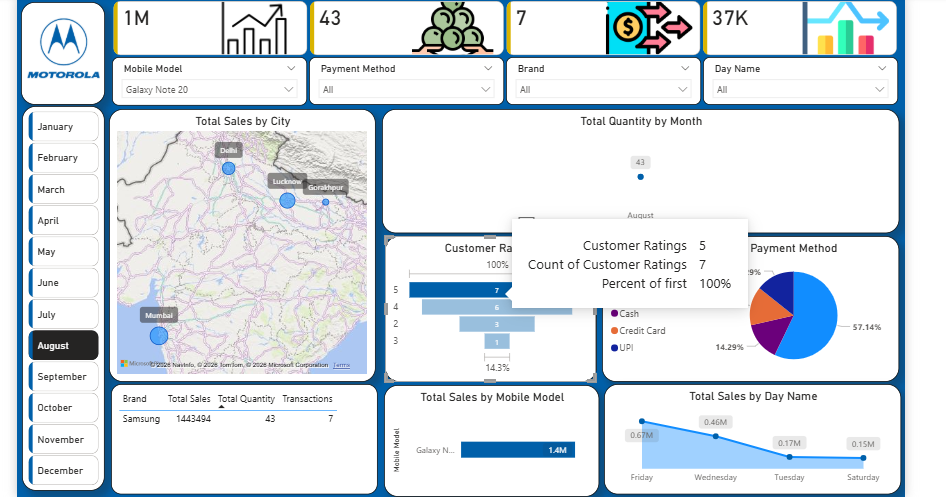

The page's visual inventory and layout, read from the dashboard file:
{"tool":"powerbi","page":{"name":"Page 1","canvas":[1280,720],"ordinal":0},"visuals":[{"type":"shape","box":[5.5,6.9,120.8,148.2],"z":0},{"type":"image","box":[9.6,16.5,113.9,116.6],"z":1000},{"type":"shape","box":[6.9,156.4,119.4,554.4],"z":2000},{"type":"advancedSlicerVisual","fields":{"Values":["Sales_Data.Date.Variation.Date Hierarchy.Month"]},"box":[11,160.5,111.1,548.9],"z":3000},{"type":"cardVisual","fields":{"Data":["Sales_Data.Total Sales","Sales_Data.Total Quantity","Sales_Data.Transactions","Sales_Data.Average"]},"box":[134,5.6,1140.1,83.7],"z":4000},{"type":"map","fields":{"Category":["Sales_Data.City"],"Size":["Sales_Data.Total Sales"]},"box":[132.9,160.8,384.1,393.1],"z":5000},{"type":"lineChart","fields":{"Y":["Sales_Data.Total Quantity"],"Category":["Sales_Data.Date.Variation.Date Hierarchy.Month","Sales_Data.Date.Variation.Date Hierarchy.Day"]},"box":[525.9,160.8,744.8,178.7],"z":6000},{"type":"clusteredBarChart","fields":{"Category":["Sales_Data.Mobile Model"],"Y":["Sales_Data.Total Sales"]},"box":[528.3,558.5,310.1,160.5],"z":7000},{"type":"pieChart","fields":{"Category":["Sales_Data.Payment Method"],"Y":["Sales_Data.Transactions"]},"box":[842.5,344.4,428.1,209.9],"z":8000},{"type":"funnel","title":"Customer Ratings","fields":{"Category":["Sales_Data.Customer Ratings"],"Y":["CountNonNull(Sales_Data.Customer Ratings)"]},"box":[529.7,344.4,304.6,209.9],"z":9000},{"type":"areaChart","fields":{"Category":["Sales_Data.Day Name"],"Y":["Sales_Data.Total Sales"]},"box":[845.3,557.1,428.1,159.2],"z":10000},{"type":"tableEx","fields":{"Values":["Sales_Data.Brand","Sales_Data.Total Sales","Sales_Data.Total Quantity","Sales_Data.Transactions"]},"box":[135.8,557.1,384.2,159.2],"z":11000},{"type":"slicer","fields":{"Values":["Sales_Data.Mobile Model"]},"box":[136.2,87.1,281.4,70.3],"z":12000},{"type":"slicer","fields":{"Values":["Sales_Data.Payment Method"]},"box":[421,87.1,281.4,69.2],"z":13000},{"type":"slicer","fields":{"Values":["Sales_Data.Brand"]},"box":[703.5,87.1,281.4,69.2],"z":14000},{"type":"slicer","fields":{"Values":["Sales_Data.Day Name"]},"box":[988.2,87.1,281.4,69.2],"z":15000}]}

Visuals, with their boxes in screenshot pixels (x1, y1, x2, y2):
shape: box(16, 0, 102, 100)
image: box(19, 2, 100, 84)
shape: box(17, 101, 102, 492)
advancedSlicerVisual - Sales_Data.Date.Variation.Date Hierarchy.Month: box(20, 104, 99, 491)
cardVisual - Sales_Data.Total Sales x Sales_Data.Total Quantity: box(107, 0, 913, 53)
map - Sales_Data.City x Sales_Data.Total Sales: box(106, 104, 378, 382)
lineChart - Sales_Data.Total Quantity x Sales_Data.Date.Variation.Date Hierarchy.Month: box(384, 104, 910, 230)
clusteredBarChart - Sales_Data.Mobile Model x Sales_Data.Total Sales: box(386, 385, 605, 496)
pieChart - Sales_Data.Payment Method x Sales_Data.Transactions: box(608, 234, 910, 382)
"Customer Ratings" funnel: box(387, 234, 602, 382)
areaChart - Sales_Data.Day Name x Sales_Data.Total Sales: box(610, 384, 912, 496)
tableEx - Sales_Data.Brand x Sales_Data.Total Sales: box(108, 384, 380, 496)
slicer - Sales_Data.Mobile Model: box(109, 52, 307, 101)
slicer - Sales_Data.Payment Method: box(310, 52, 509, 101)
slicer - Sales_Data.Brand: box(509, 52, 708, 101)
slicer - Sales_Data.Day Name: box(711, 52, 909, 101)
